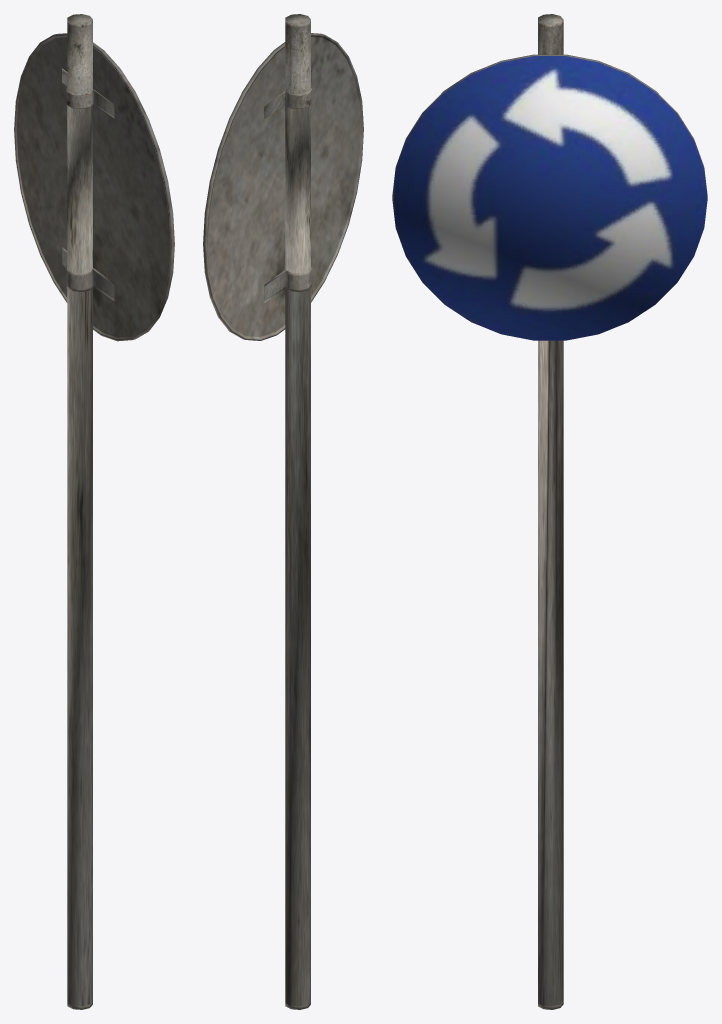
File: znak_rondo.dae
The picture shows the model from 3 angles, left to right: view 1: azimuth 30°, elevation 25°; view 2: azimuth 150°, elevation 25°; view 3: azimuth 270°, elevation 25°; orthographic projection.
Parts seen in each view (by area): view 1: znakRondo_a65; view 2: znakRondo_a65; view 3: znakRondo_a65.
Boxes of the visible parts, left/top/right/bottom form: znakRondo_a65: left=14, top=14, right=174, bottom=1009; znakRondo_a65: left=203, top=14, right=363, bottom=1009; znakRondo_a65: left=392, top=14, right=707, bottom=1009.
Bounding box in the file's own units: 0.06 × 0.5807 × 2.
Materials: 1 (1 with a texture image).
